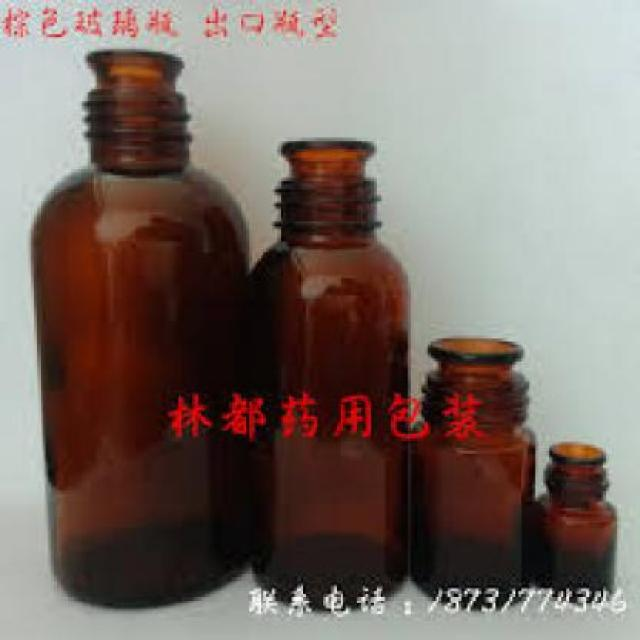kaca: (28, 46, 255, 606), (242, 139, 403, 606), (411, 338, 535, 610), (532, 442, 612, 600)
